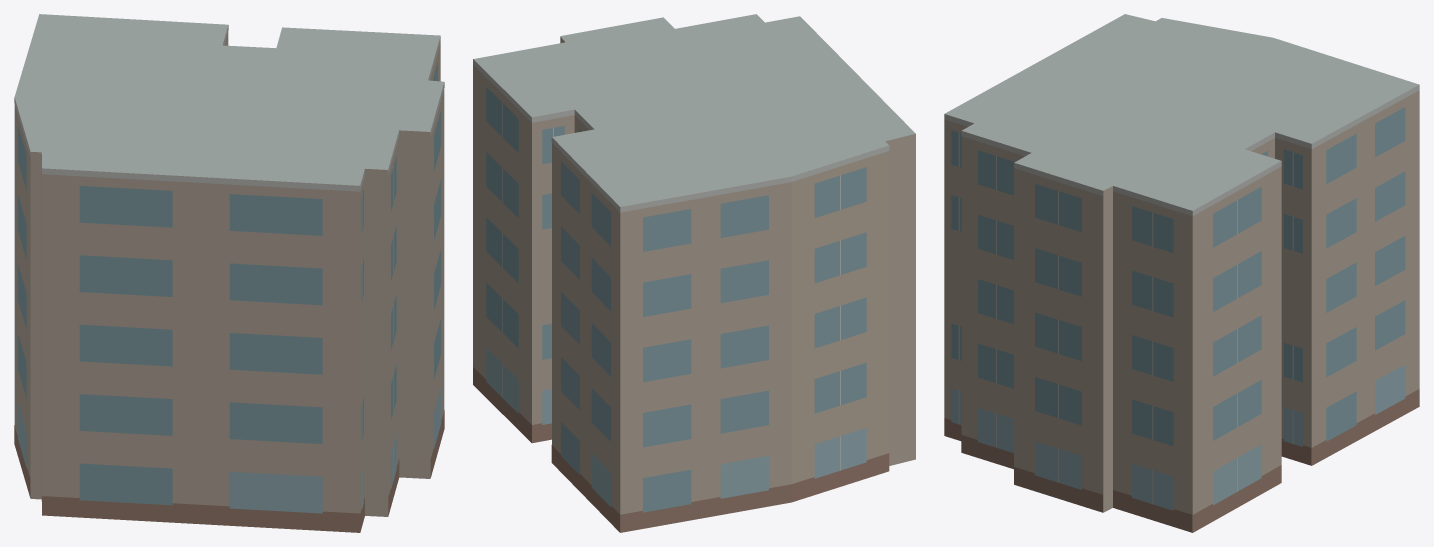
File: survey-upis-32667751.glb
3 renders of one model, left to right at view 1: azimuth 30°, elevation 25°; view 2: azimuth 150°, elevation 25°; view 3: azimuth 270°, elevation 25°, orthographic. The views are drawn at different scales.
Parts seen in each view (by area): view 1: survey-upis-32667751.tmp; view 2: survey-upis-32667751.tmp; view 3: survey-upis-32667751.tmp.
Boxes of the visible parts, left/top/right/bottom form: survey-upis-32667751.tmp: left=14, top=14, right=444, bottom=532; survey-upis-32667751.tmp: left=473, top=14, right=915, bottom=532; survey-upis-32667751.tmp: left=944, top=14, right=1419, bottom=532.
Bounding box in the file's own units: 19.03 × 14.5 × 19.41.
